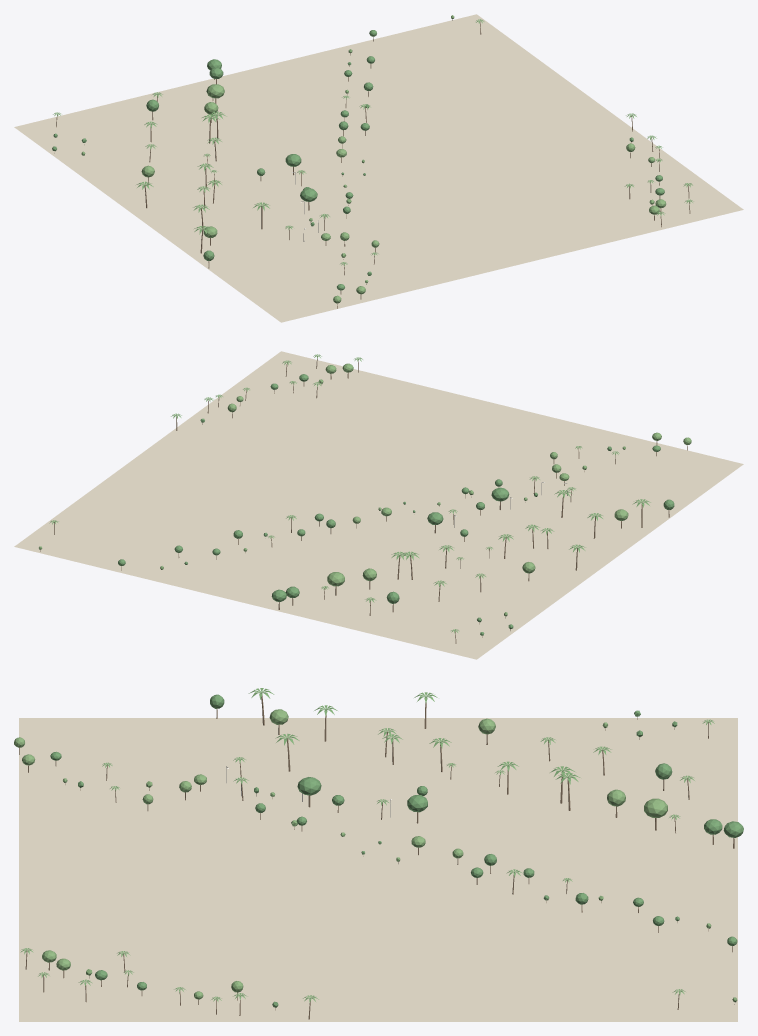
File: nature_-2_-4.glb
3 renders of one model, top to bottom at view 1: azimuth 30°, elevation 25°; view 2: azimuth 150°, elevation 25°; view 3: azimuth 270°, elevation 25°, orthographic. The views are drawn at different scales.
Visible parts, largest first — view 1: ground, foliage_a, foliage_b, palm_leaf, trunk; view 2: ground, foliage_a, foliage_b, palm_leaf, trunk; view 3: ground, foliage_a, foliage_b, palm_leaf, trunk.
Part boxes in pixels (x1,y1,x2,y2): ground: (14, 14, 743, 322); foliage_a: (52, 30, 664, 290); foliage_b: (81, 15, 666, 303); palm_leaf: (53, 19, 693, 265); trunk: (54, 19, 690, 308); ground: (14, 351, 743, 659); foliage_a: (118, 374, 674, 635); foliage_b: (39, 363, 691, 616); palm_leaf: (49, 354, 650, 633); trunk: (40, 356, 687, 643); ground: (19, 718, 737, 1021); foliage_a: (50, 694, 743, 1007); foliage_b: (14, 709, 737, 1002); palm_leaf: (20, 688, 714, 1002); trunk: (19, 695, 734, 1019).
Bounding box in the file's own units: 253 × 13.47 × 254.
